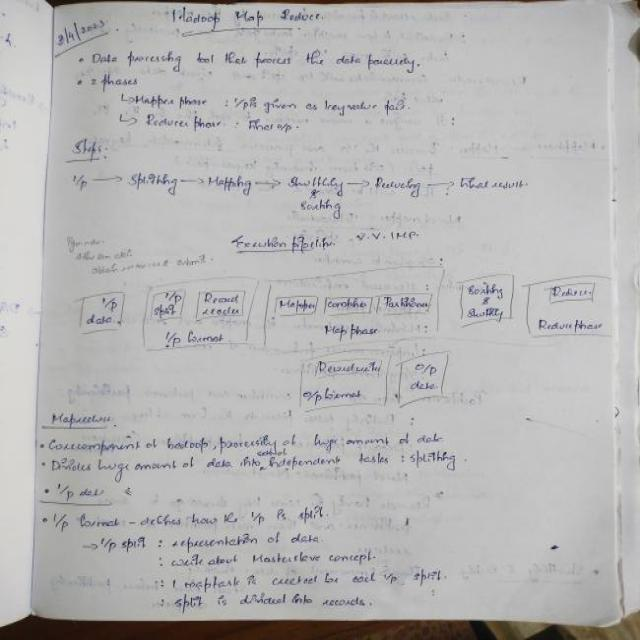Figure Detection - v3 Dataset Version2: (58, 262, 622, 414)
